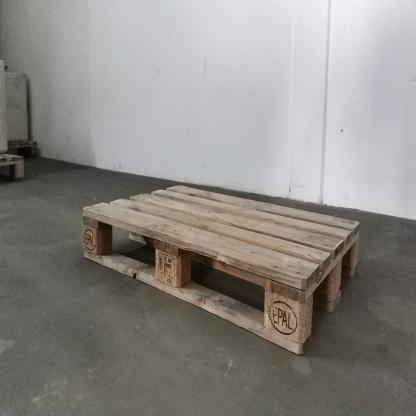BoxFace: (81, 178, 362, 362)
